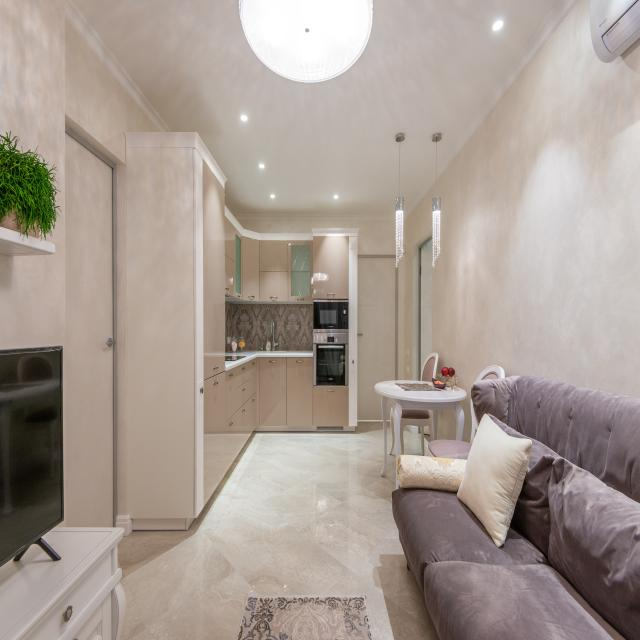floor: (117, 422, 443, 640), (403, 425, 422, 455), (424, 437, 429, 454)
wall: (404, 0, 640, 443), (65, 16, 162, 165), (236, 219, 396, 255), (232, 304, 313, 351), (117, 165, 127, 516), (398, 220, 406, 380), (412, 246, 418, 380), (225, 302, 233, 353), (2, 211, 20, 233), (27, 220, 42, 239), (35, 151, 44, 159), (41, 232, 46, 241), (38, 155, 43, 163)
